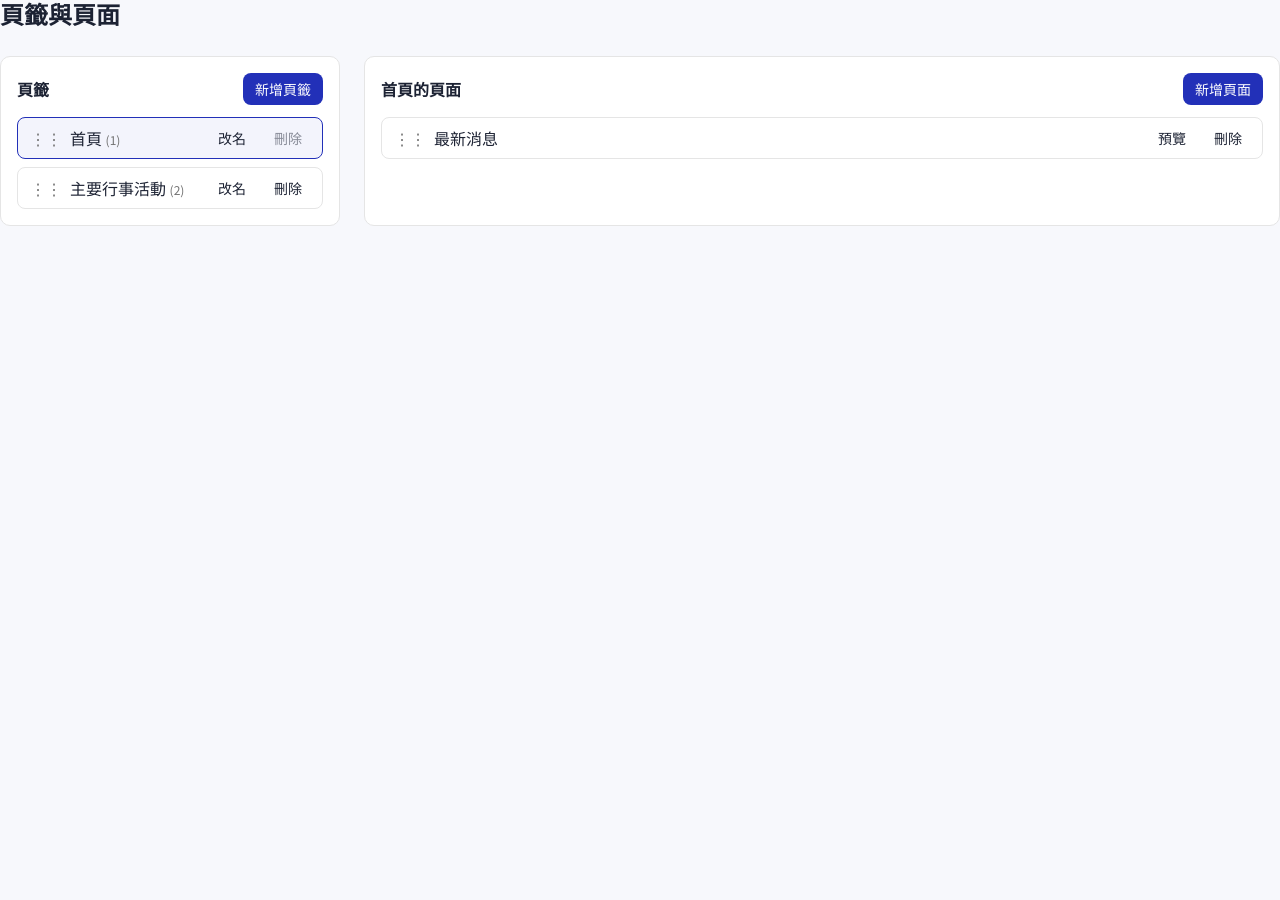
Test: 刪除失敗時顯示 API 訊息；首頁頁籤不可刪除
Expected: the button with aria-label "刪除 首頁" is disabled, [262,122,314,154]
Click the button with aria-label "刪除 主要行事活動" at (288, 188), box [262,172,314,204]
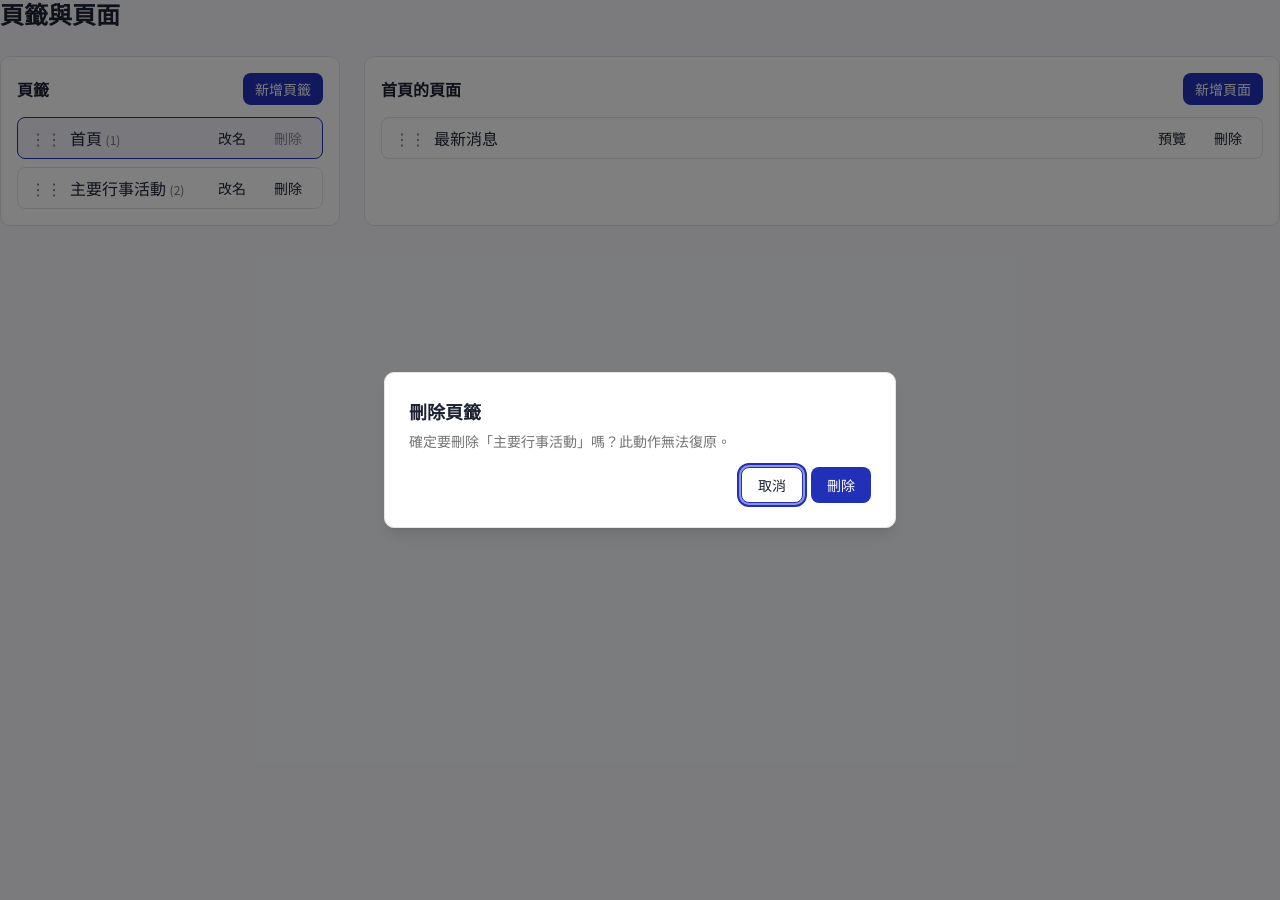
Click the button "刪除" at (841, 485), box [811,467,871,503]
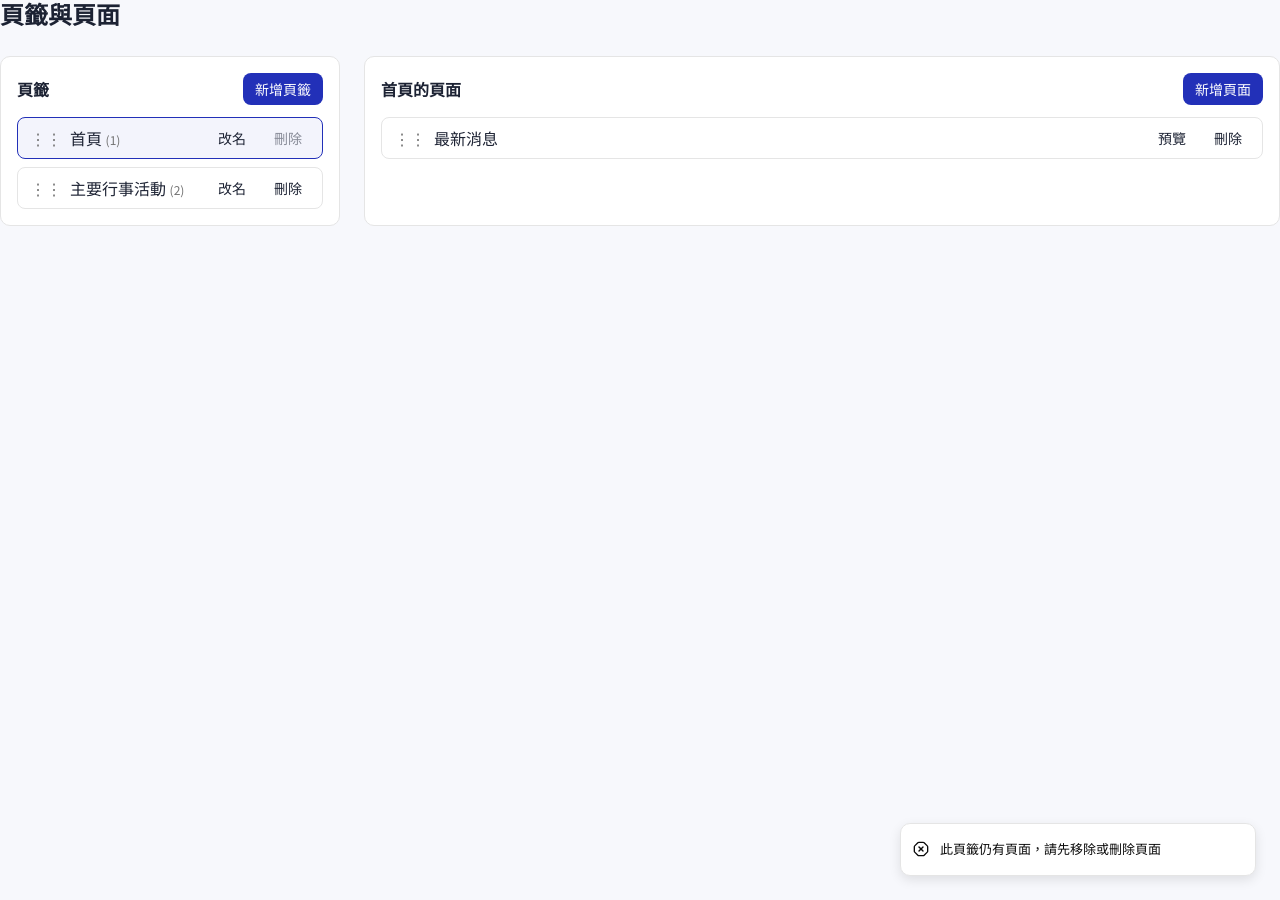
Result: the text "此頁籤仍有頁面，請先移除或刪除頁面" is shown at [940,840,1161,859]
